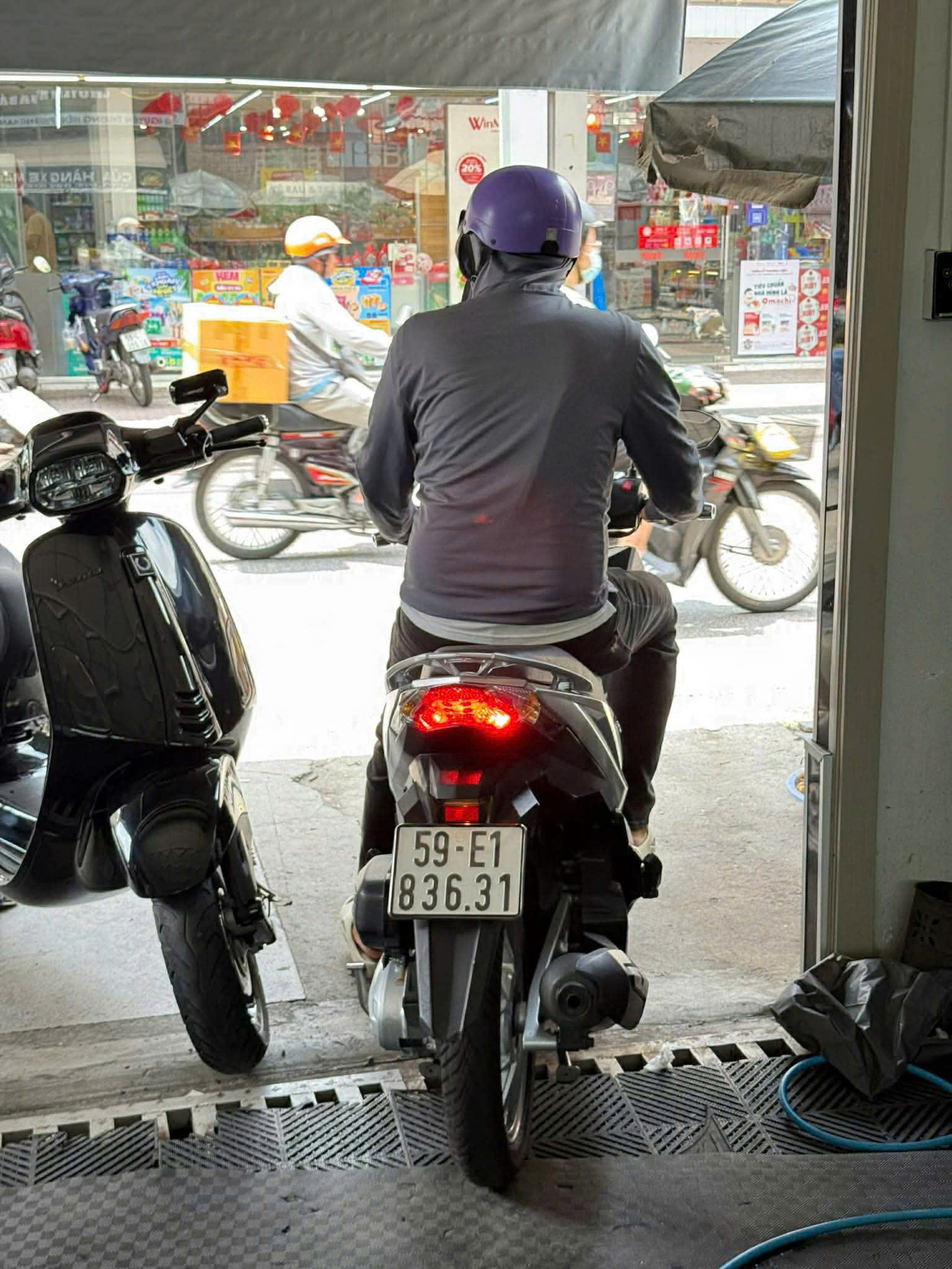Bien-so: (386, 819, 530, 920)
